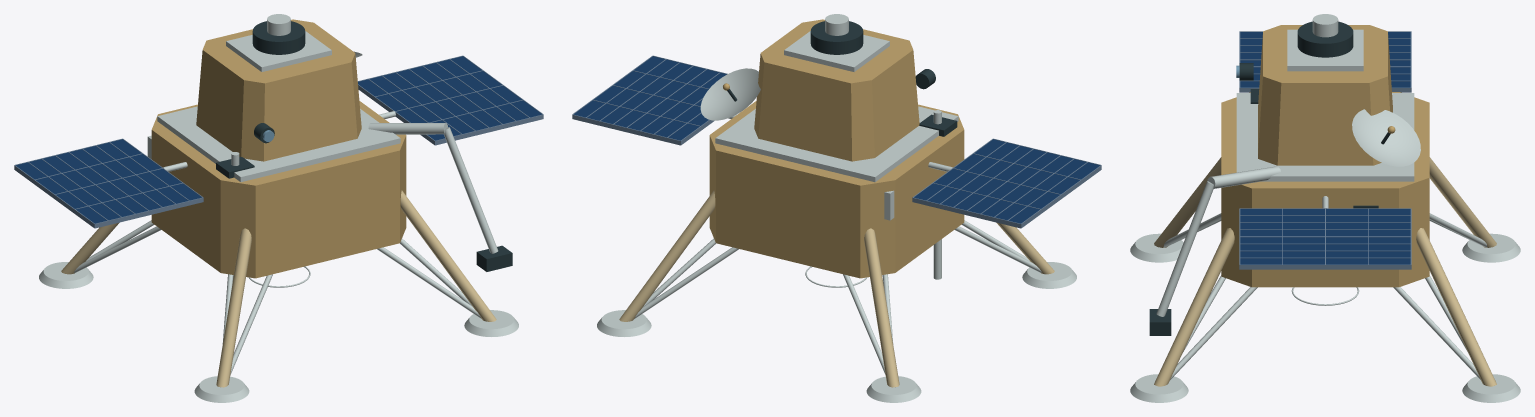
File: change-6.glb
The picture shows the model from 3 angles, left to right: view 1: azimuth 30°, elevation 25°; view 2: azimuth 150°, elevation 25°; view 3: azimuth 270°, elevation 25°; orthographic projection. The views are drawn at different scales.
Visible parts, largest first — view 1: Change-lander-octagonal-deck, deployed-lander-solar-wing (×2), sample-return-ascent-stage, solar, upper-deck, legs, landing-leg-2, landing-leg-1, stage-2, instruments, ascent-docking-interface, landing-footpad-2 (+6 smaller); view 2: Change-lander-octagonal-deck, sample-return-ascent-stage, deployed-lander-solar-wing (×2), solar, upper-deck, legs, relay-communication-antenna, landing-leg-3, landing-leg-4, stage-2, ascent-docking-interface, landing-footpad-3 (+4 smaller); view 3: sample-return-ascent-stage, Change-lander-octagonal-deck, deployed-lander-solar-wing (×2), upper-deck, solar, legs, relay-communication-antenna, landing-leg-1, landing-leg-4, stage-2, instruments, ascent-docking-interface (+9 smaller).
Boxes of the visible parts, x1=… form: Change-lander-octagonal-deck: x1=151, y1=101, x2=406, y2=278; deployed-lander-solar-wing (×2): x1=15, y1=56, x2=541, y2=223; sample-return-ascent-stage: x1=196, y1=19, x2=361, y2=161; solar: x1=14, y1=55, x2=543, y2=228; upper-deck: x1=157, y1=106, x2=400, y2=182; legs: x1=74, y1=220, x2=481, y2=374; landing-leg-2: x1=216, y1=228, x2=251, y2=387; landing-leg-1: x1=400, y1=190, x2=496, y2=321; stage-2: x1=226, y1=31, x2=331, y2=71; instruments: x1=254, y1=123, x2=498, y2=253; ascent-docking-interface: x1=252, y1=21, x2=305, y2=54; landing-footpad-2: x1=194, y1=376, x2=249, y2=402; Change-lander-octagonal-deck: x1=709, y1=101, x2=964, y2=278; sample-return-ascent-stage: x1=754, y1=19, x2=919, y2=161; deployed-lander-solar-wing (×2): x1=574, y1=56, x2=1100, y2=223; solar: x1=572, y1=55, x2=1101, y2=228; upper-deck: x1=715, y1=106, x2=958, y2=182; legs: x1=634, y1=220, x2=1041, y2=374; relay-communication-antenna: x1=700, y1=68, x2=760, y2=120; landing-leg-3: x1=864, y1=228, x2=899, y2=387; landing-leg-4: x1=619, y1=190, x2=715, y2=321; stage-2: x1=784, y1=31, x2=889, y2=71; ascent-docking-interface: x1=810, y1=21, x2=863, y2=54; landing-footpad-3: x1=866, y1=376, x2=921, y2=402; sample-return-ascent-stage: x1=1258, y1=25, x2=1392, y2=165; Change-lander-octagonal-deck: x1=1221, y1=92, x2=1429, y2=287; deployed-lander-solar-wing (×2): x1=1240, y1=32, x2=1410, y2=264; upper-deck: x1=1236, y1=93, x2=1414, y2=181; solar: x1=1239, y1=31, x2=1411, y2=269; legs: x1=1163, y1=213, x2=1487, y2=379; relay-communication-antenna: x1=1352, y1=109, x2=1420, y2=166; landing-leg-1: x1=1154, y1=228, x2=1234, y2=386; landing-leg-4: x1=1416, y1=228, x2=1496, y2=386; stage-2: x1=1287, y1=29, x2=1363, y2=71; instruments: x1=1156, y1=63, x2=1253, y2=316; ascent-docking-interface: x1=1297, y1=21, x2=1353, y2=57.
Bounding box in the file's own units: 4.36 × 2.62 × 3.08.
